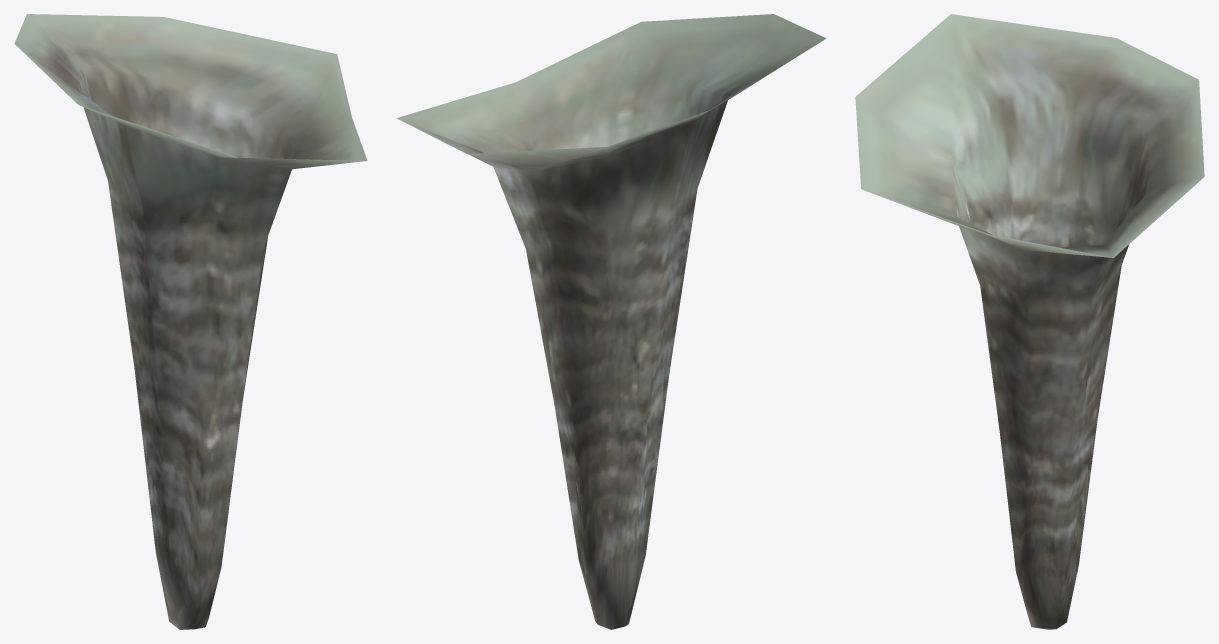
The model's file is TROLLHOLE02_PS-MAINSTALAG05.fbx.
3 renders of one model, left to right at view 1: azimuth 30°, elevation 25°; view 2: azimuth 150°, elevation 25°; view 3: azimuth 270°, elevation 25°, orthographic. The views are drawn at different scales.
Parts seen in each view (by area): view 1: TROLLHOLE02_PS-MAINSTALAG05; view 2: TROLLHOLE02_PS-MAINSTALAG05; view 3: TROLLHOLE02_PS-MAINSTALAG05.
Part boxes in pixels (x1,y1,x2,y2): TROLLHOLE02_PS-MAINSTALAG05: (14,14,367,629); TROLLHOLE02_PS-MAINSTALAG05: (396,14,826,629); TROLLHOLE02_PS-MAINSTALAG05: (855,14,1204,629).
Size of the model in its own units: 23442 by 38726 by 22553.
1 material, 1 textured.
